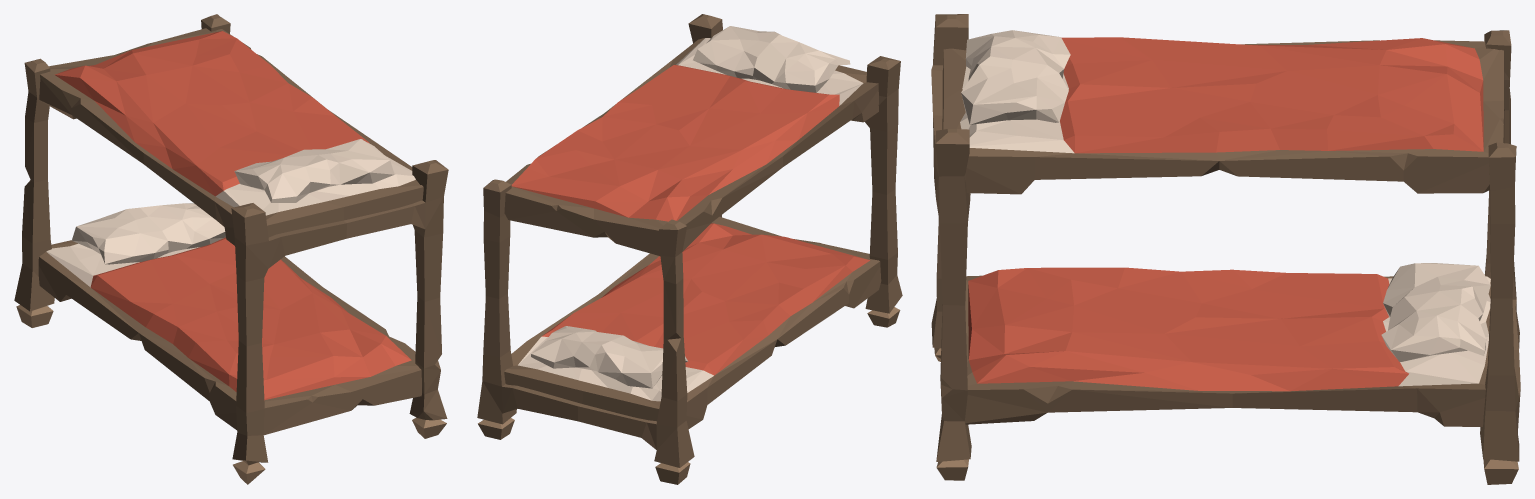
Rendered from DoubleBed_Red.fbx.
3 views of the same model, side by side, from view 1: azimuth 30°, elevation 25°; view 2: azimuth 150°, elevation 25°; view 3: azimuth 270°, elevation 25° (orthographic). The views are drawn at different scales.
Parts seen in each view (by area): view 1: DoubleBed_Red; view 2: DoubleBed_Red; view 3: DoubleBed_Red.
Part boxes in pixels (x1,y1,x2,y2): DoubleBed_Red: (14,14,448,484); DoubleBed_Red: (477,14,902,484); DoubleBed_Red: (931,14,1520,484).
Size of the model in its own units: 2.81 by 3.72 by 5.39.
